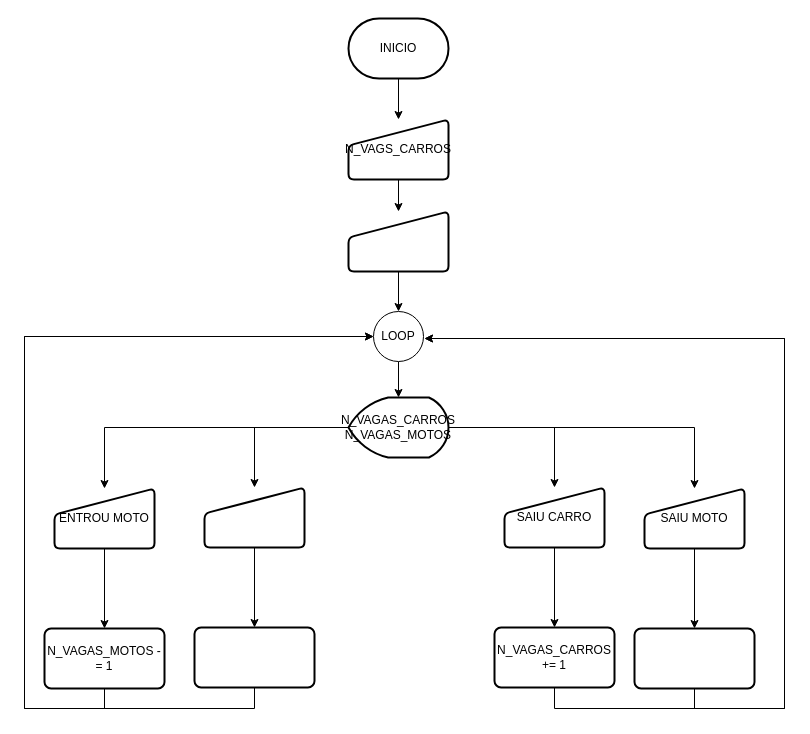
Image size: 810x734. Some labels were removed from this diagram. The centre of each missing label's shape, as x and y in pixels:
ENTROU CARRO: point 254,517
N_VAGAS_CARROS -= 1: point 254,657
N_VAGAS_MOTOS += 1: point 694,658
N_VAGS_MOTOS: point 398,241
